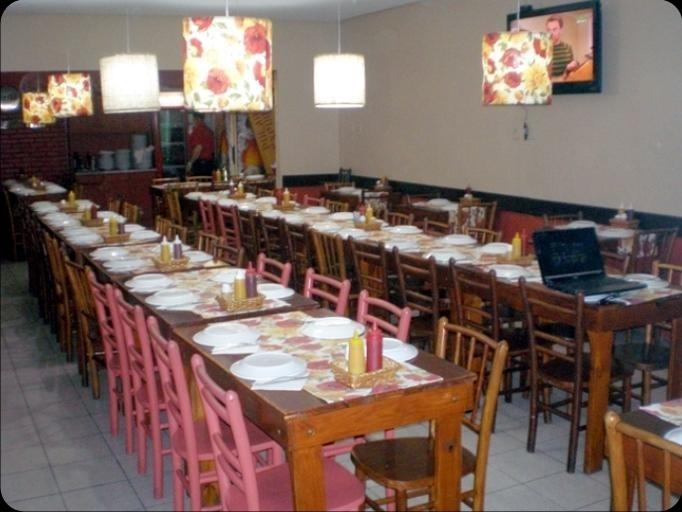clean: (169, 310, 438, 411), (111, 269, 337, 315), (25, 195, 160, 245), (84, 235, 238, 278), (437, 229, 533, 293)
